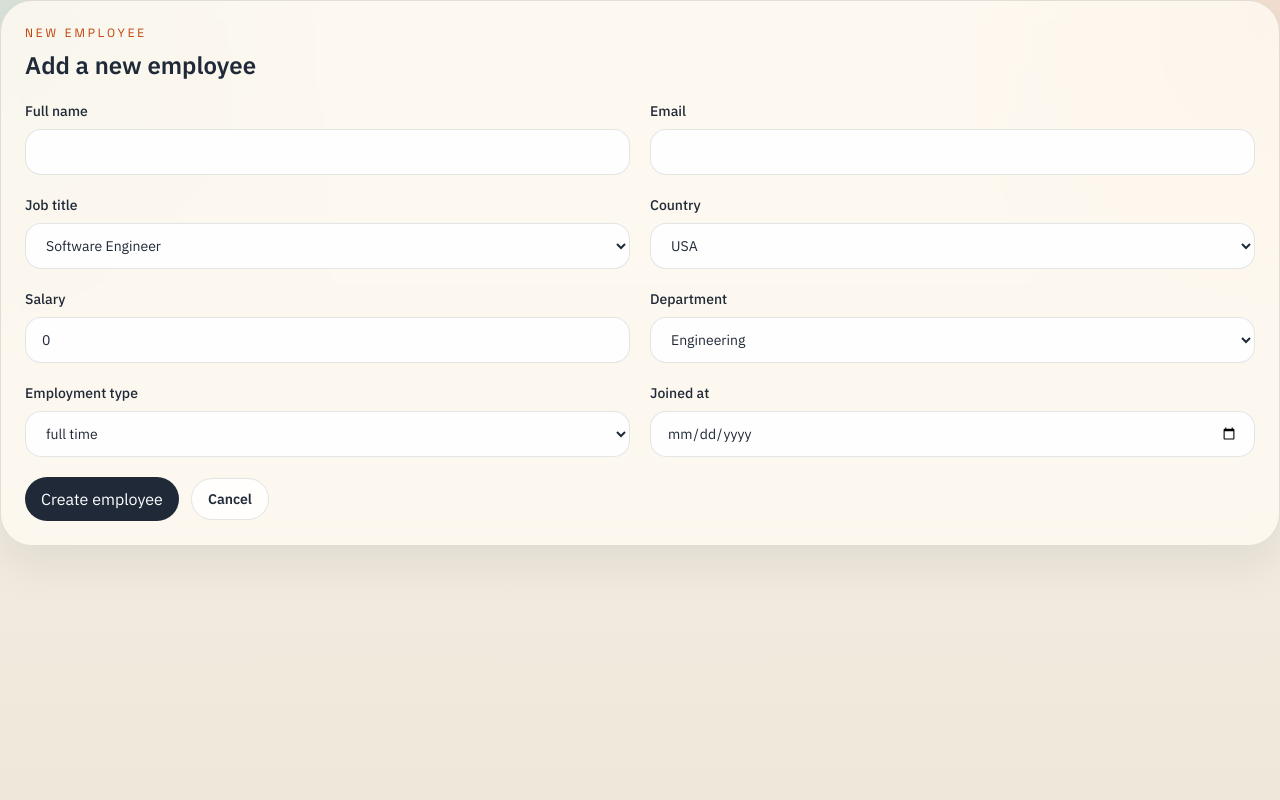
it: EmployeeForm › shows client validation errors before submit
Click the button "Create employee" at x=102, y=499, box [25,477,179,521]
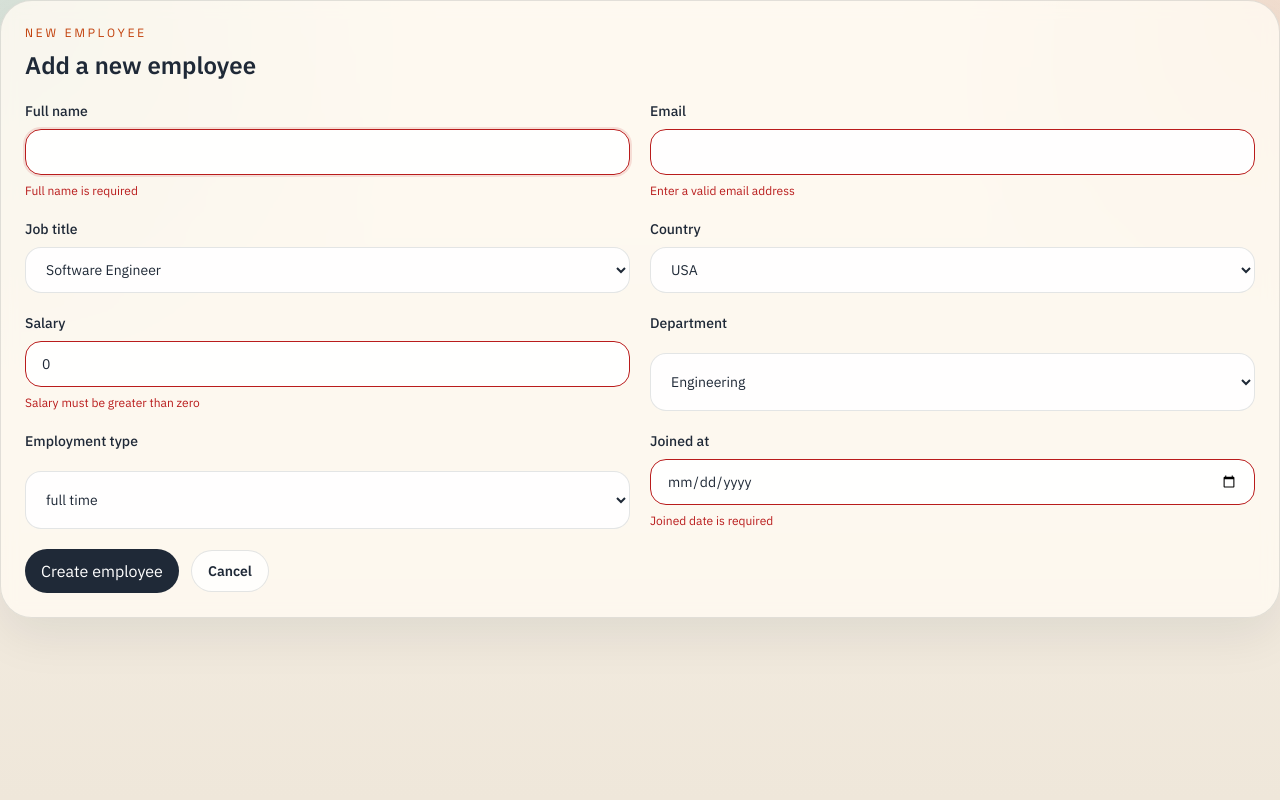
Expected: the text "Full name is required" is shown, [25,183,138,198]
Expected: the text "Enter a valid email address" is shown, [650,183,795,198]
